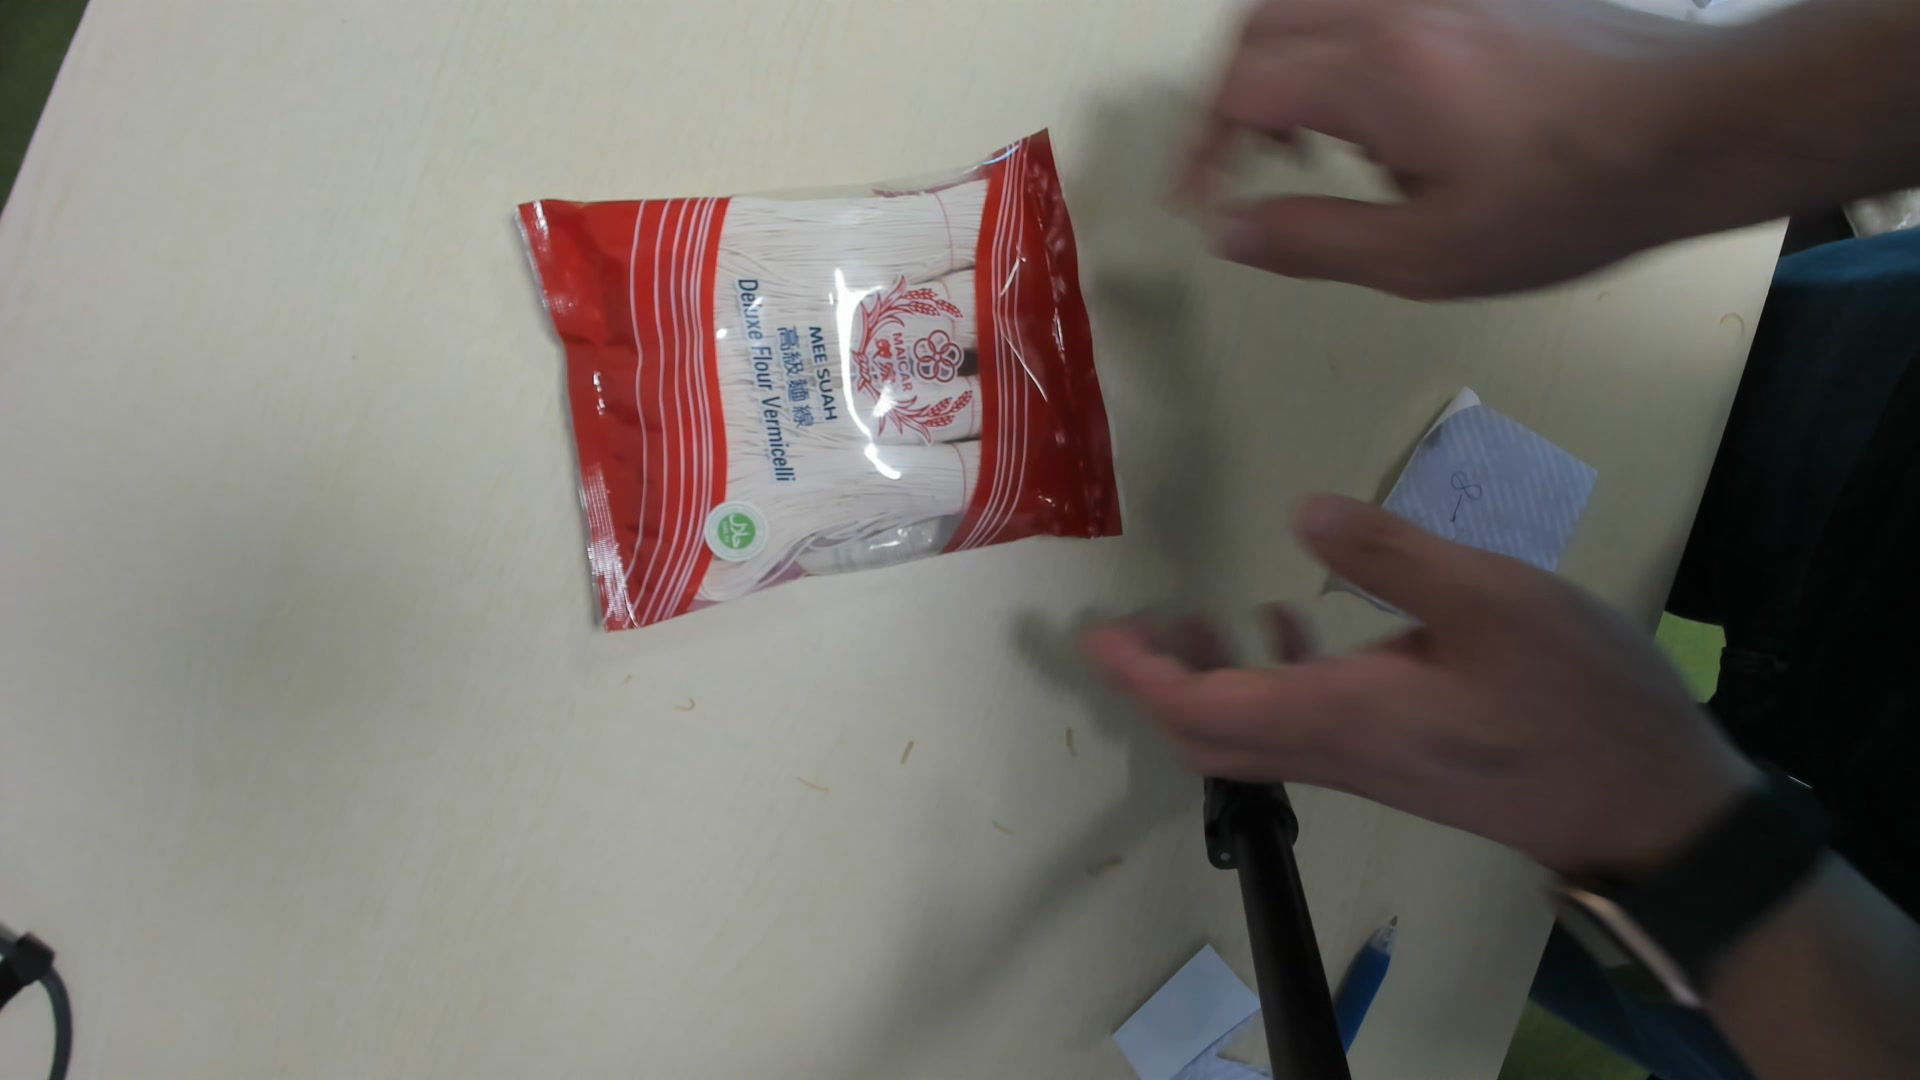BeeHoonVermicelli_100-199g_Halal_NonHealthy: (518, 125, 1134, 632)
